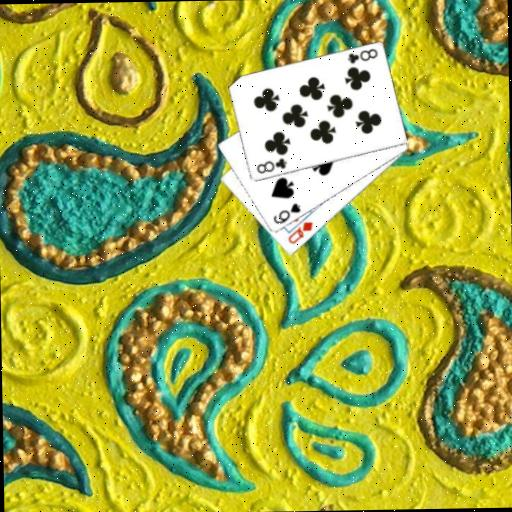6S: (271, 200, 303, 226)
8C: (253, 155, 288, 176), (344, 45, 379, 65)
QD: (285, 219, 315, 246)
